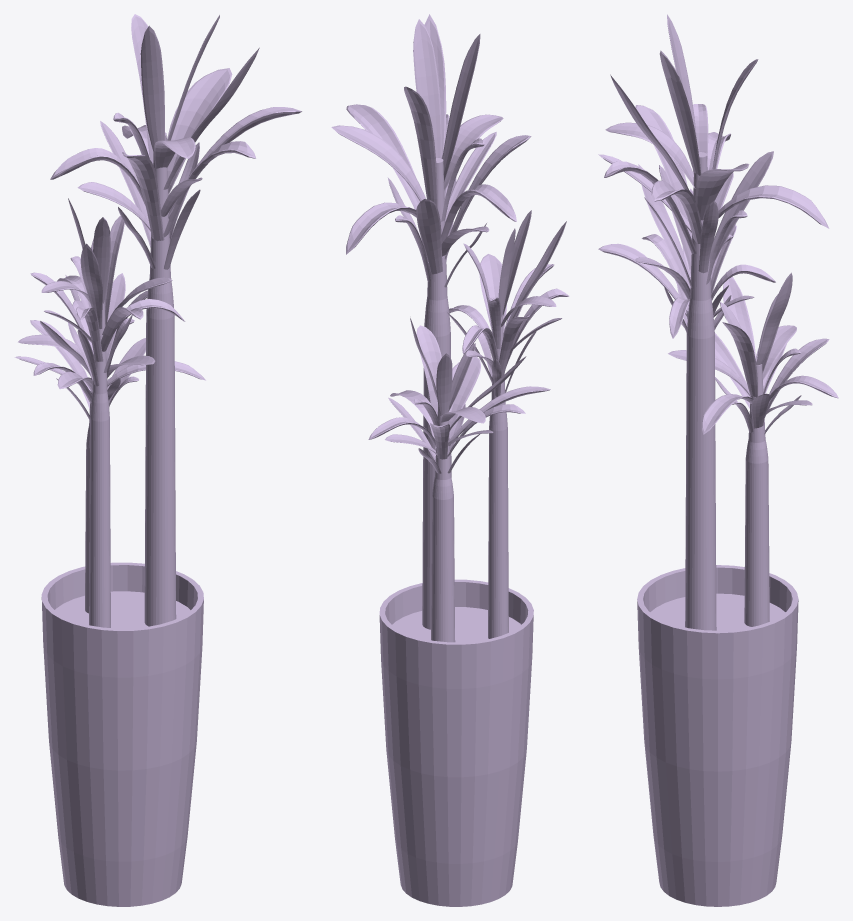
File: PlantPot1.fbx
3 views of the same model, side by side, from view 1: azimuth 30°, elevation 25°; view 2: azimuth 150°, elevation 25°; view 3: azimuth 270°, elevation 25° (orthographic). The views are drawn at different scales.
Parts seen in each view (by area): view 1: Corn plant; view 2: Corn plant; view 3: Corn plant.
Part boxes in pixels (<box>): Corn plant: <box>14,14,301,906</box>; Corn plant: <box>331,14,569,906</box>; Corn plant: <box>598,14,838,906</box>.
Size of the model in its own units: 179 by 617 by 155.
